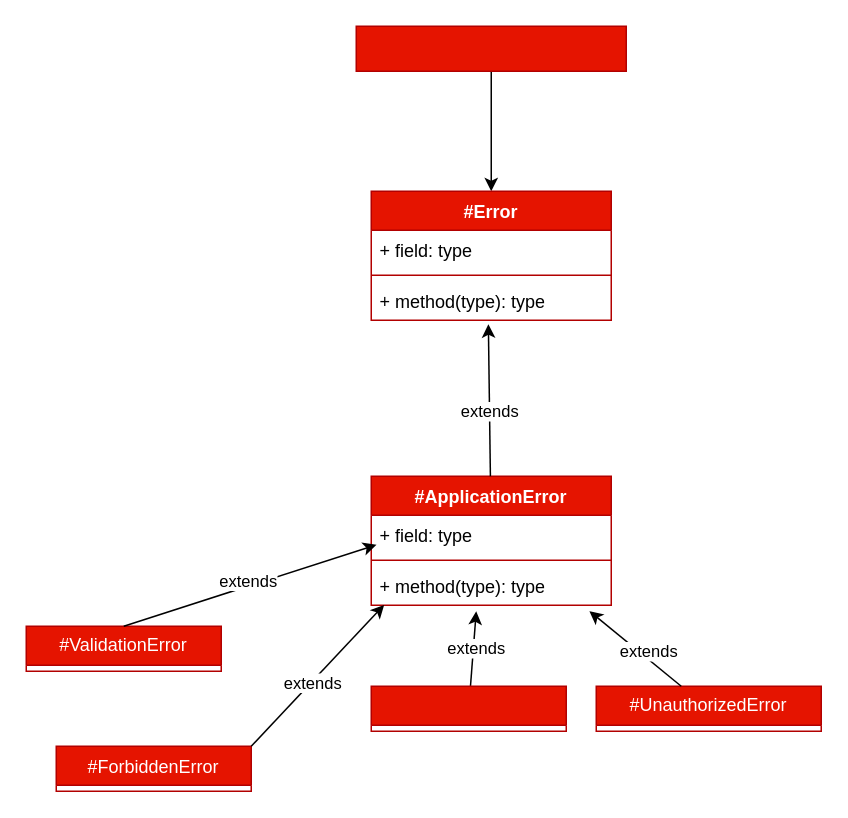
Image size: 848x818. Some labels were removed from this diagram. The shapes that lost their labels are listed below. From the top down, each one's centre as x and y in pixels, then its label:
At [490,48]: "Application Exceptions".
At [468,708]: "#NotFoundError".
